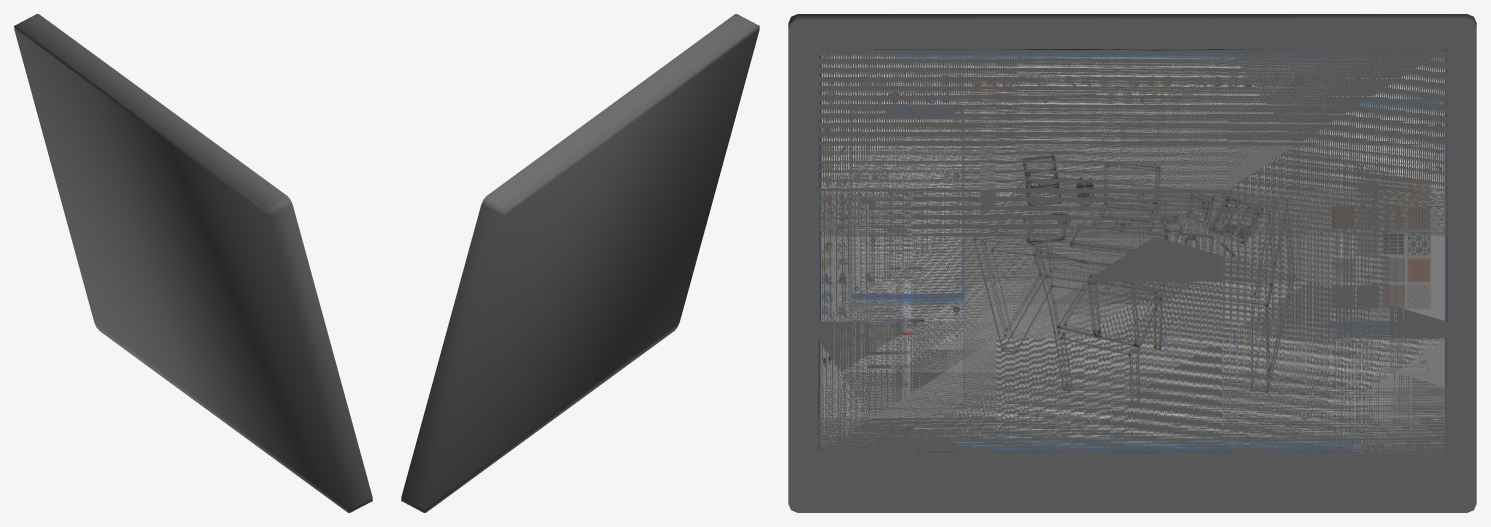
File: screen.dae
The picture shows the model from 3 angles, left to right: view 1: azimuth 30°, elevation 25°; view 2: azimuth 150°, elevation 25°; view 3: azimuth 270°, elevation 25°; orthographic projection. The views are drawn at different scales.
Parts seen in each view (by area): view 1: screen; view 2: screen; view 3: screen.
Part boxes in pixels (x1=…): screen: x1=14, y1=14, x2=372, y2=512; screen: x1=401, y1=14, x2=759, y2=512; screen: x1=788, y1=14, x2=1476, y2=512.
Bounding box in the file's own units: 0.1427 × 0.5956 × 0.4262.
Materials: 2 (1 with a texture image).
